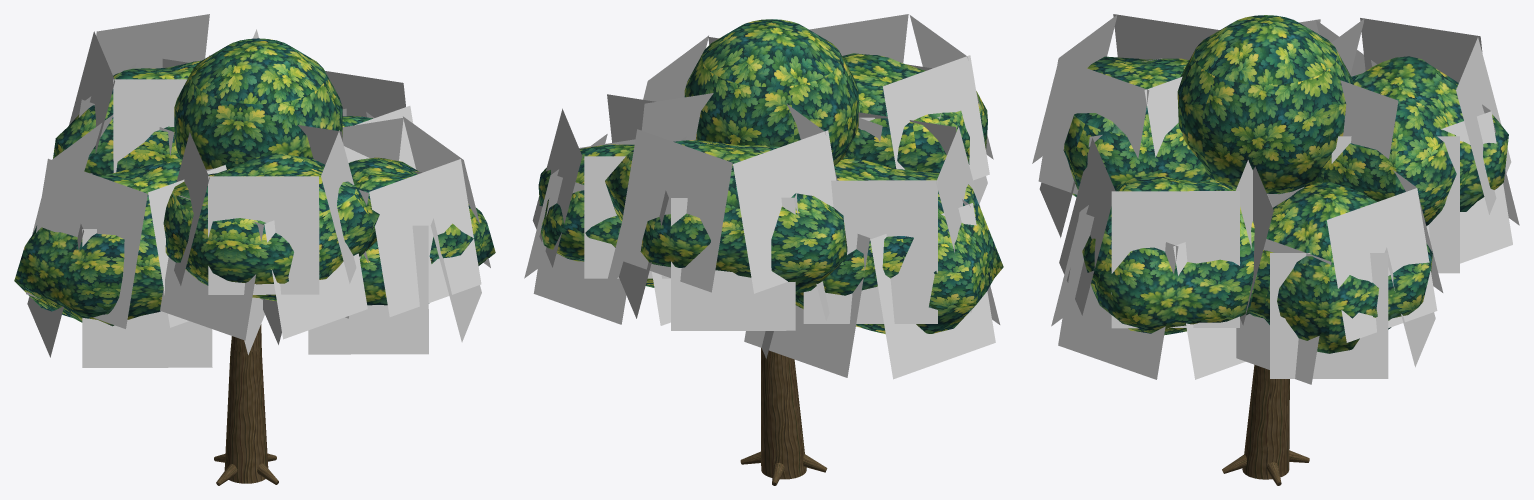
Rendered from NaturalTree_02.fbx.
3 renders of one model, left to right at view 1: azimuth 30°, elevation 25°; view 2: azimuth 150°, elevation 25°; view 3: azimuth 270°, elevation 25°, orthographic. The views are drawn at different scales.
Parts seen in each view (by area): view 1: NaturalTree_02.001; view 2: NaturalTree_02.001; view 3: NaturalTree_02.001.
Part boxes in pixels (<box>): NaturalTree_02.001: <box>14,14,495,485</box>; NaturalTree_02.001: <box>524,14,1003,485</box>; NaturalTree_02.001: <box>1032,14,1519,485</box>.
Size of the model in its own units: 694 by 680 by 664.
Materials: 3 (2 with a texture image).
